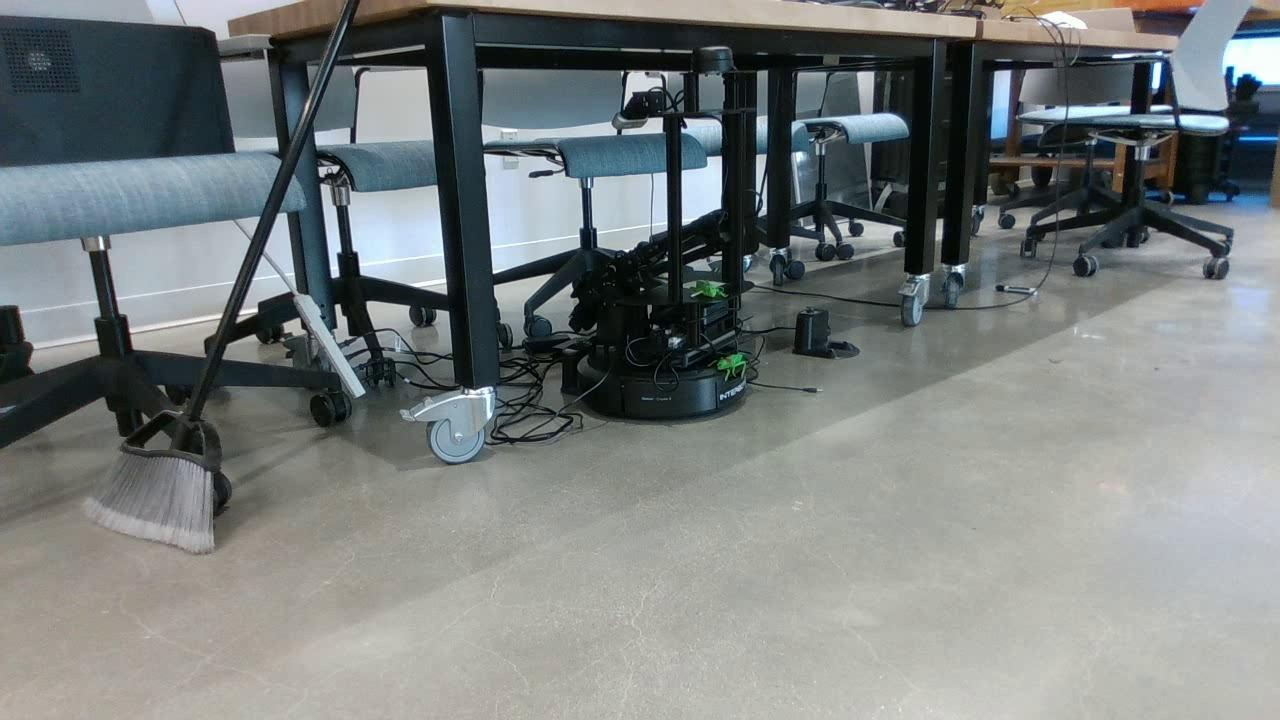grasshopper: (708, 354, 746, 383), (688, 279, 718, 298)
